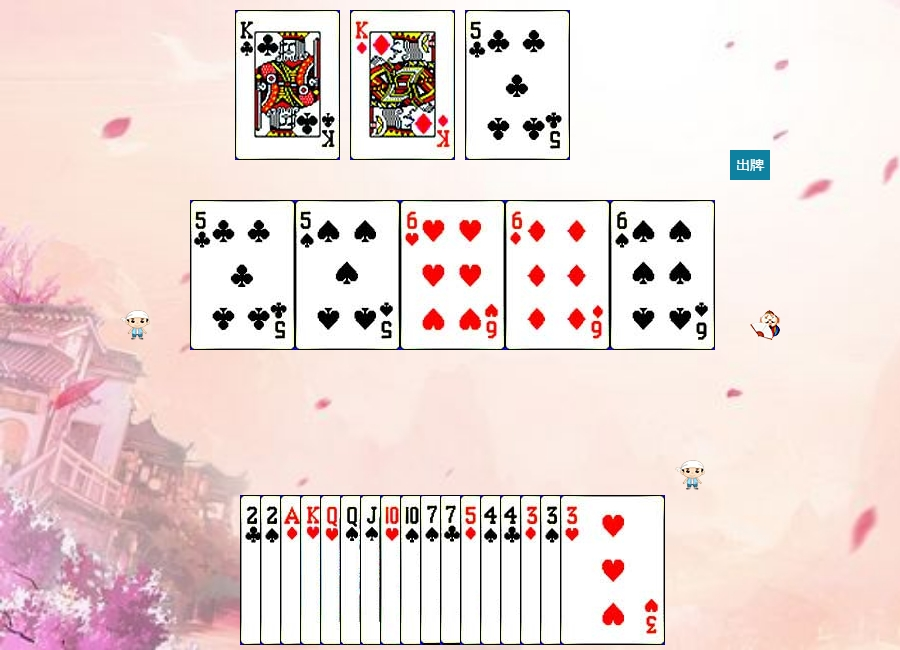10~3: (380, 495, 485, 645)
10~4: (400, 495, 505, 645)
11~4: (360, 495, 465, 645)
12~3: (320, 495, 425, 645)
12~4: (340, 495, 445, 645)
13~1: (350, 10, 455, 160)
13~2: (235, 10, 340, 160)
13~3: (300, 495, 405, 645)
14~1: (280, 495, 385, 645)
15~2: (240, 495, 345, 645)
15~4: (260, 495, 365, 645)
3~1: (520, 495, 625, 645)
3~3: (560, 495, 665, 645)
3~4: (540, 495, 645, 645)
4~2: (500, 495, 605, 645)
4~4: (480, 495, 585, 645)
5~1: (460, 495, 565, 645)
5~2: (465, 10, 570, 160), (190, 200, 295, 350)
5~4: (295, 200, 400, 350)
6~1: (505, 200, 610, 350)
6~3: (400, 200, 505, 350)
6~4: (610, 200, 715, 350)
7~2: (440, 495, 545, 645)
7~4: (420, 495, 525, 645)
